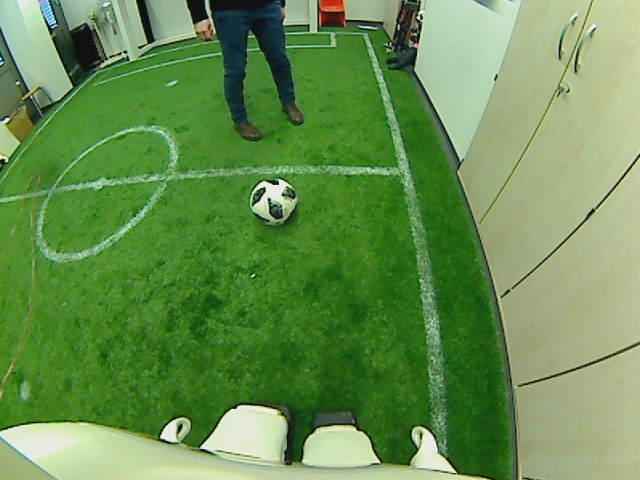ball: (249, 178, 298, 225)
